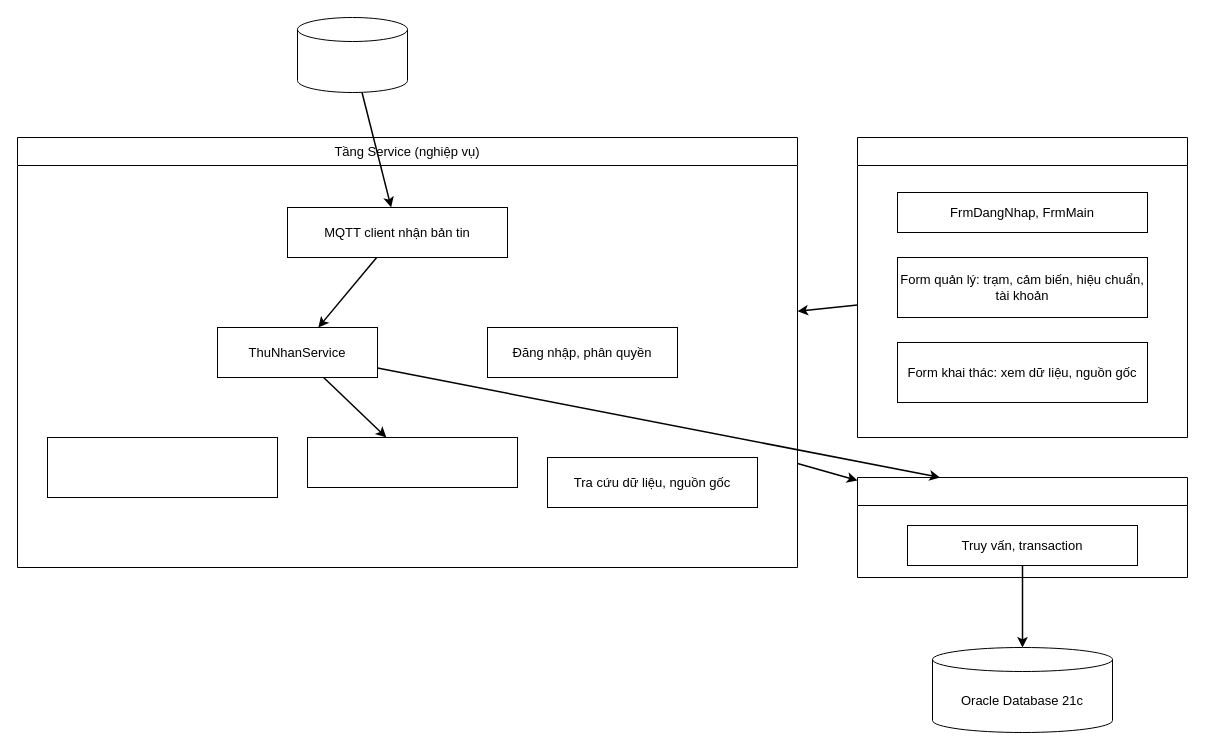
Image size: 1205x750. Some labels were removed from this diagram. The box of each missing label's shape, as (x1, y1, x2, y2) in pixels:
KiemTraChatLuongService: (306, 436, 518, 488)
MQTT broker: (296, 16, 408, 92)
Quản lý trạm, cảm biến, hiệu chuẩn: (46, 436, 278, 498)
Tầng dữ liệu (ADO.NET, ODP.NET): (856, 476, 1188, 578)
Tầng giao diện (WinForms): (856, 136, 1188, 438)
